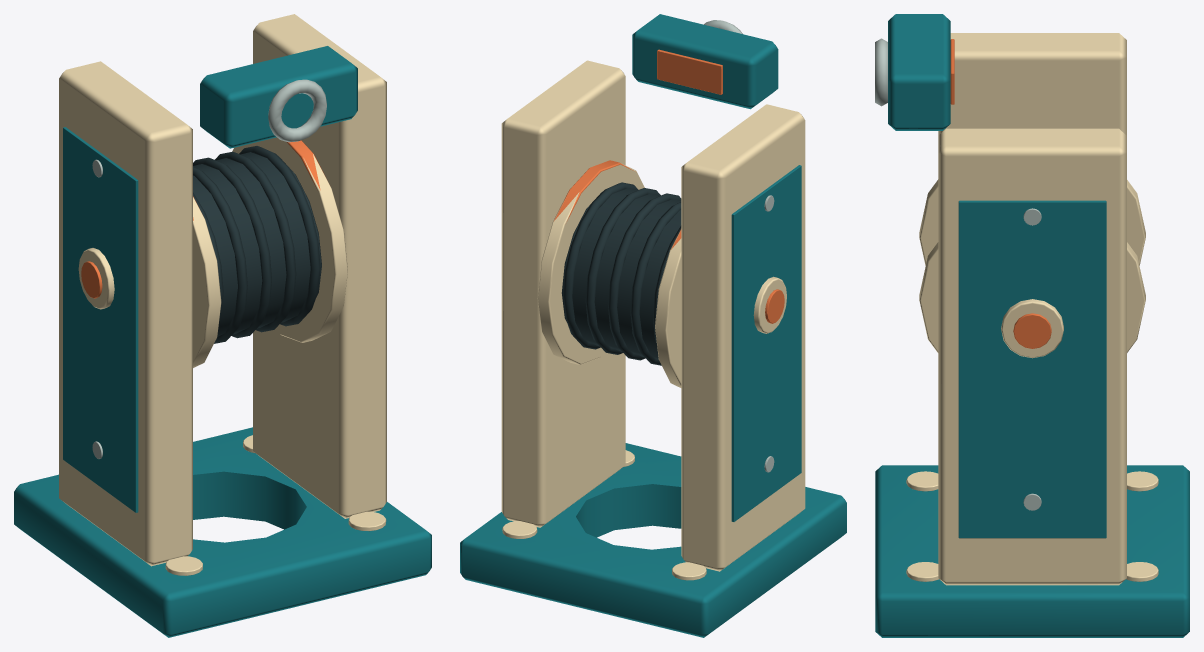
Rendered from winch-lod-1.glb.
3 views of the same model, side by side, from view 1: azimuth 30°, elevation 25°; view 2: azimuth 150°, elevation 25°; view 3: azimuth 270°, elevation 25° (orthographic). The views are drawn at different scales.
Visible parts, largest first — view 1: voxys_mechanism_static, voxys_winch_drum; view 2: voxys_mechanism_static, voxys_winch_drum; view 3: voxys_mechanism_static, voxys_winch_drum.
Boxes of the visible parts, left/top/right/bottom form: voxys_mechanism_static: left=14, top=14, right=431, bottom=637; voxys_winch_drum: left=193, top=137, right=347, bottom=367; voxys_mechanism_static: left=460, top=14, right=846, bottom=637; voxys_winch_drum: left=537, top=160, right=681, bottom=387; voxys_mechanism_static: left=875, top=14, right=1189, bottom=637; voxys_winch_drum: left=919, top=179, right=1145, bottom=352.
Bounding box in the file's own units: 1 × 1.87 × 1.
